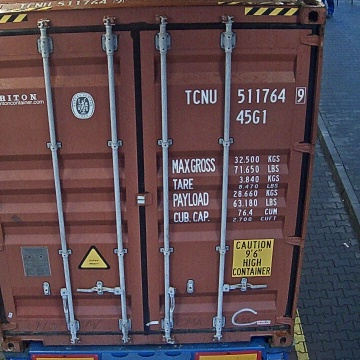serial_id: (184, 88, 304, 105)
